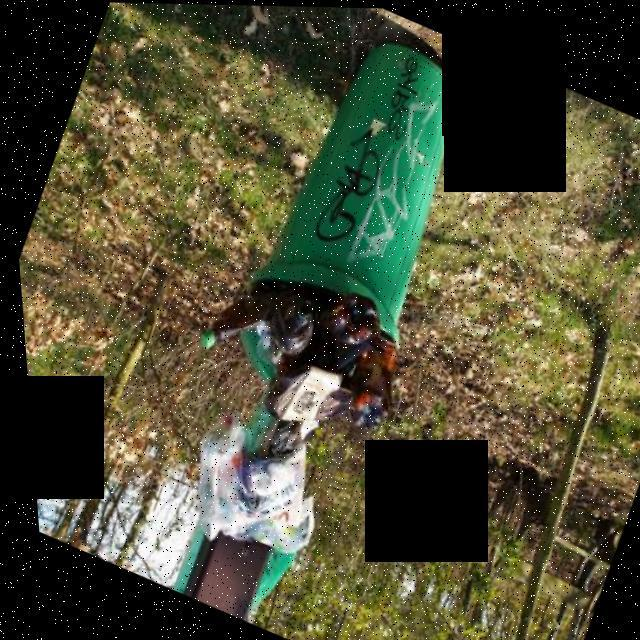bin: (200, 3, 515, 393)
